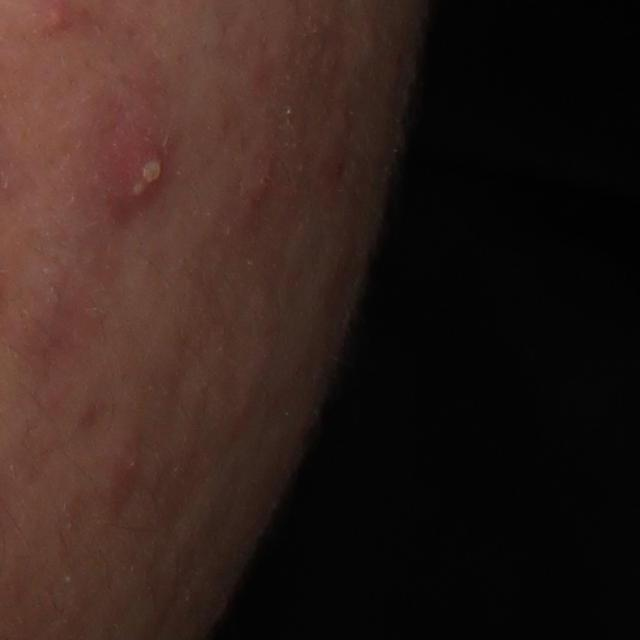papule: (110, 439, 145, 493), (247, 161, 276, 213), (43, 0, 71, 34)
pustule: (105, 128, 172, 218)
